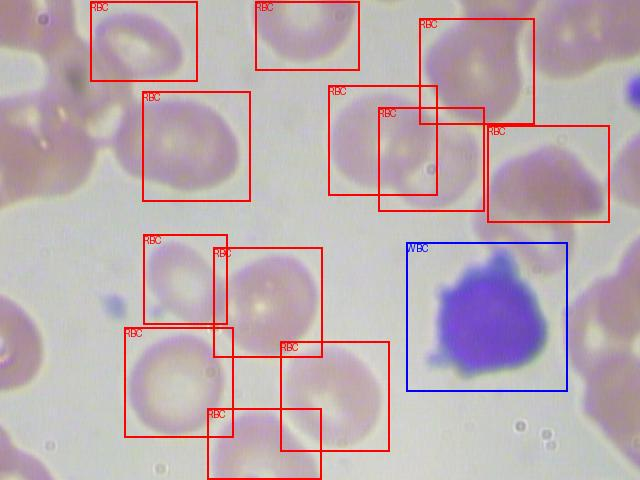RBC: (419, 18, 534, 124), (280, 341, 389, 451), (124, 327, 233, 437), (213, 247, 322, 357), (328, 85, 437, 195), (142, 91, 250, 201), (487, 125, 609, 222), (378, 107, 484, 211), (90, 1, 197, 81), (207, 408, 321, 479), (143, 234, 227, 324), (255, 1, 359, 70)
WBC: (406, 242, 567, 391)
